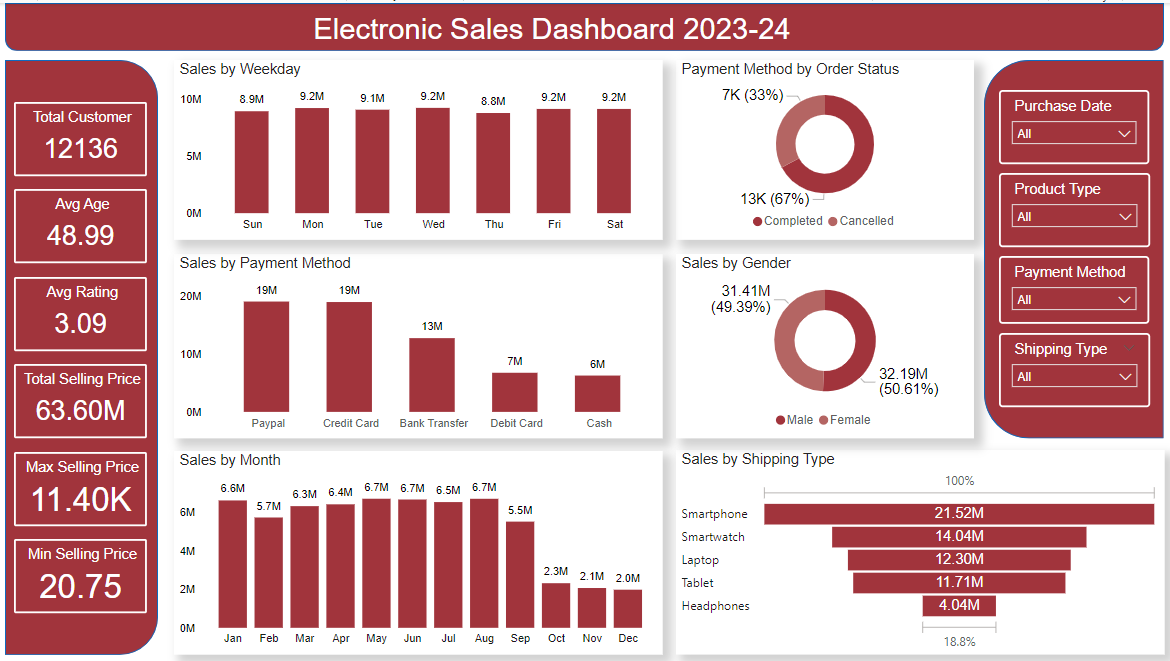

What the dashboard file says about the page in this screenshot:
{"tool":"powerbi","page":{"name":"Page 1","canvas":[1280,720],"ordinal":0},"visuals":[{"type":"shape","box":[1076.1,61.9,196.1,412.9],"z":0},{"type":"shape","box":[7.6,62.2,167,649.3],"z":1000},{"type":"columnChart","title":"Sales by Payment Method","fields":{"Category":["Electronic_sales_Sep2023-Sep2024.Payment Method"],"Y":["Sum(Electronic_sales_Sep2023-Sep2024.Total Price)"]},"box":[192.3,273.5,532.9,201.3],"z":2000},{"type":"shape","box":[7.6,0,1264.7,52.4],"z":3000},{"type":"actionButton","title":"Electronic Sales Dashboard 2023-24","box":[306.6,9.8,595.8,42.6],"z":4000},{"type":"slicer","fields":{"Values":["Electronic_sales_Sep2023-Sep2024.Purchase Date"]},"box":[1092.3,94.9,163.7,80.8],"z":5000},{"type":"card","title":"Total Customer","fields":{"Values":["Count(Electronic_sales_Sep2023-Sep2024.Customer ID)"]},"box":[17.5,108,145.1,80.8],"z":6000},{"type":"shape","box":[476.1,578.1,551,11.6],"z":7000},{"type":"card","title":"Avg Age","fields":{"Values":["Avg(Electronic_sales_Sep2023-Sep2024.Age)"]},"box":[17.5,203.4,145.1,80.8],"z":8000},{"type":"card","title":"Avg  Rating","fields":{"Values":["Avg(Electronic_sales_Sep2023-Sep2024.Rating)"]},"box":[17.5,298.8,145.1,80.8],"z":9000},{"type":"card","title":"Total Selling Price","fields":{"Values":["Sum(Electronic_sales_Sep2023-Sep2024.Total Price)"]},"box":[17.5,394.1,145.1,80.8],"z":10000},{"type":"card","title":"Min Selling Price","fields":{"Values":["Min(Electronic_sales_Sep2023-Sep2024.Total Price)"]},"box":[17.5,584.9,145.1,80.8],"z":11000},{"type":"card","title":"Max Selling Price","fields":{"Values":["Max(Electronic_sales_Sep2023-Sep2024.Total Price)"]},"box":[17.5,489.5,145.1,80.8],"z":12000},{"type":"donutChart","title":"Payment Method by Order Status","fields":{"Category":["Electronic_sales_Sep2023-Sep2024.Order Status"],"Y":["CountNonNull(Electronic_sales_Sep2023-Sep2024.Payment Method)"]},"box":[739.4,61.9,325.2,196.1],"z":13000},{"type":"columnChart","title":"Sales by Month ","fields":{"Category":["Electronic_sales_Sep2023-Sep2024.Month name"],"Y":["Sum(Electronic_sales_Sep2023-Sep2024.Total Price)"]},"box":[192.3,489,532.9,221.9],"z":14000},{"type":"columnChart","title":"Sales by Weekday","fields":{"Category":["Electronic_sales_Sep2023-Sep2024.Weekday"],"Y":["Sum(Electronic_sales_Sep2023-Sep2024.Total Price)"]},"box":[192.3,61.9,532.9,196.1],"z":15000},{"type":"funnel","title":"Sales by Shipping Type","fields":{"Y":["Sum(Electronic_sales_Sep2023-Sep2024.Total Price)"],"Category":["Electronic_sales_Sep2023-Sep2024.Product Type"]},"box":[739.4,487.7,532.9,223.2],"z":16000},{"type":"donutChart","title":"Sales by Gender","fields":{"Y":["Sum(Electronic_sales_Sep2023-Sep2024.Total Price)"],"Category":["Electronic_sales_Sep2023-Sep2024.Gender"]},"box":[739.4,273.5,325.2,201.3],"z":17000},{"type":"slicer","fields":{"Values":["Electronic_sales_Sep2023-Sep2024.Product Type"]},"box":[1092.3,185.5,164.8,80.8],"z":18000},{"type":"slicer","fields":{"Values":["Electronic_sales_Sep2023-Sep2024.Payment Method"]},"box":[1092.3,276.1,163.7,74.2],"z":19000},{"type":"slicer","fields":{"Values":["Electronic_sales_Sep2023-Sep2024.Shipping Type"]},"box":[1092.3,360.1,164.8,80.8],"z":20000}]}

Visuals, with their boxes in screenshot pixels (x1, y1, x2, y2), scaled from the page's 1280x720 canvas onto the 1170x661 screenshot:
shape: box(984, 57, 1163, 436)
shape: box(7, 57, 160, 653)
"Sales by Payment Method" columnChart: box(176, 251, 663, 436)
shape: box(7, 0, 1163, 48)
"Electronic Sales Dashboard 2023-24" actionButton: box(280, 9, 825, 48)
slicer - Electronic_sales_Sep2023-Sep2024.Purchase Date: box(998, 87, 1148, 161)
"Total Customer" card: box(16, 99, 149, 173)
shape: box(435, 531, 939, 541)
"Avg Age" card: box(16, 187, 149, 261)
"Avg  Rating" card: box(16, 274, 149, 348)
"Total Selling Price" card: box(16, 362, 149, 436)
"Min Selling Price" card: box(16, 537, 149, 611)
"Max Selling Price" card: box(16, 449, 149, 524)
"Payment Method by Order Status" donutChart: box(676, 57, 973, 237)
"Sales by Month " columnChart: box(176, 449, 663, 653)
"Sales by Weekday" columnChart: box(176, 57, 663, 237)
"Sales by Shipping Type" funnel: box(676, 448, 1163, 653)
"Sales by Gender" donutChart: box(676, 251, 973, 436)
slicer - Electronic_sales_Sep2023-Sep2024.Product Type: box(998, 170, 1149, 244)
slicer - Electronic_sales_Sep2023-Sep2024.Payment Method: box(998, 253, 1148, 322)
slicer - Electronic_sales_Sep2023-Sep2024.Shipping Type: box(998, 331, 1149, 405)
